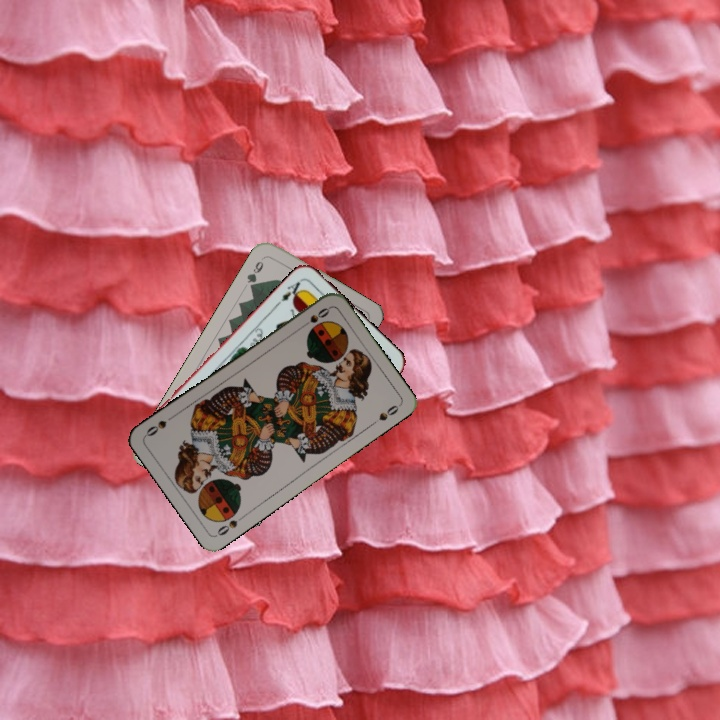EA: (277, 275, 306, 304)
G9: (243, 253, 268, 292)
SO: (296, 303, 332, 331), (213, 510, 248, 538)
